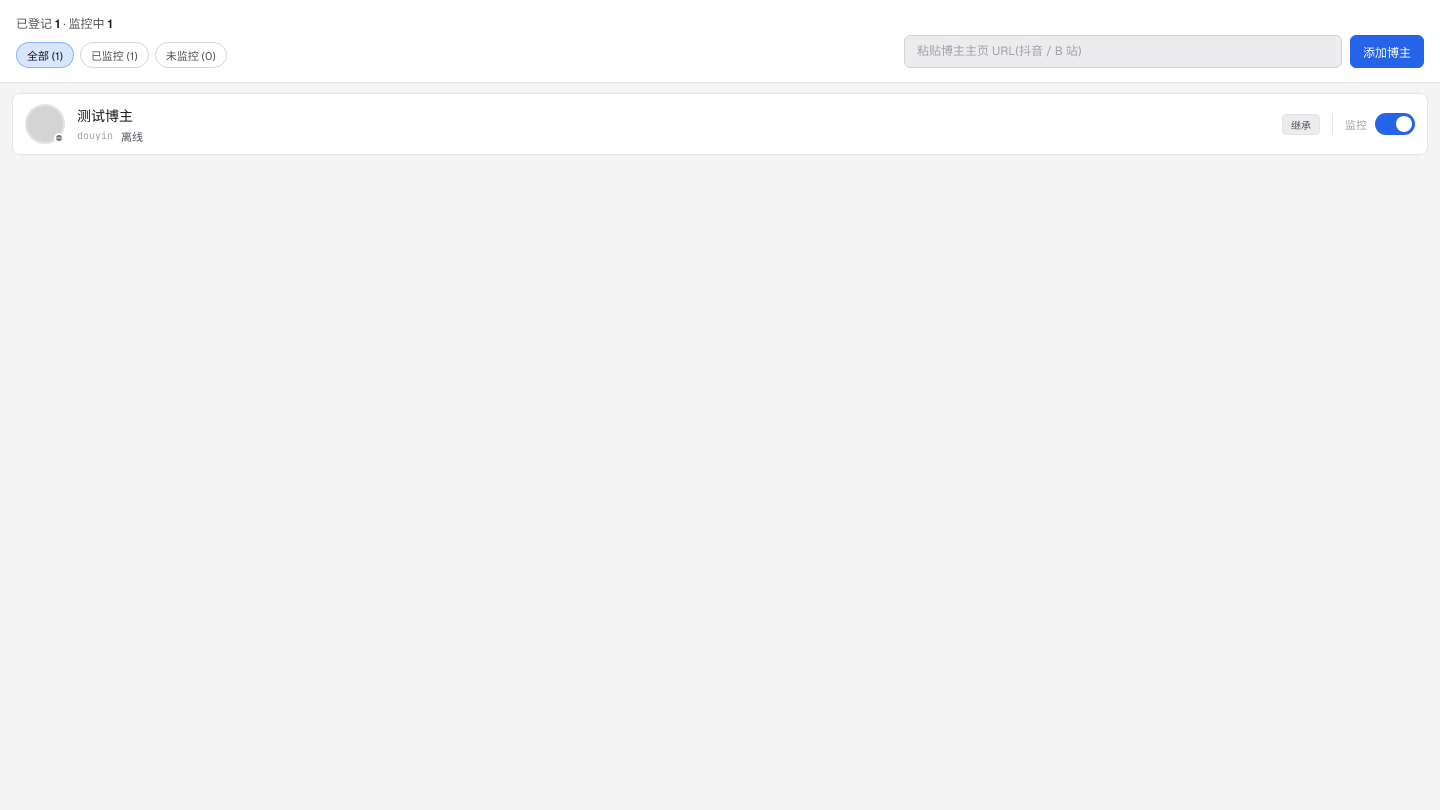
Scenario: ManagePage remove creator › shows synced profile in drawer
Click the text "测试博主" at {"x": 105, "y": 116}, box top-left (77, 108), bottom-right (133, 124)
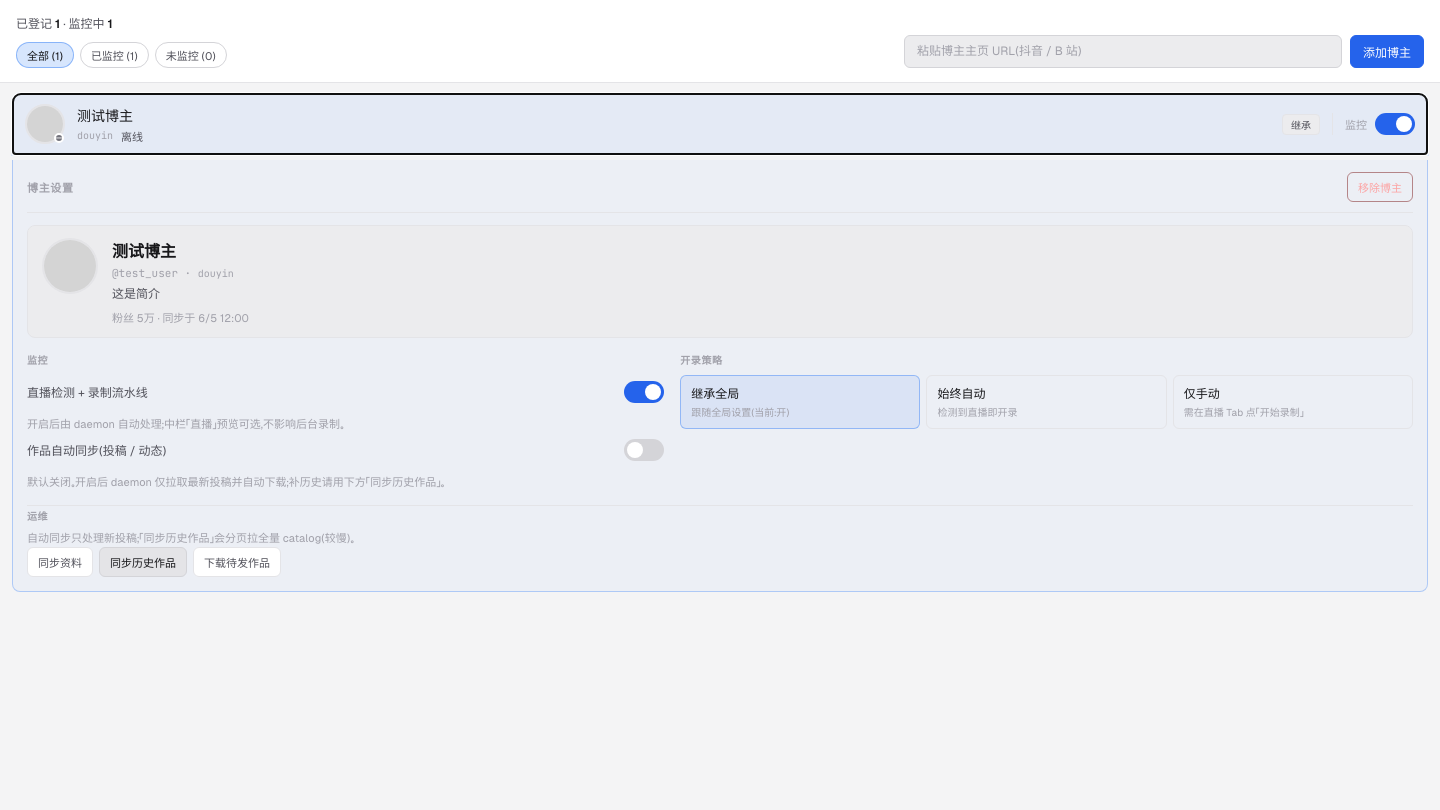
Expected: the element named "博主资料" is shown, top-left (27, 225), bottom-right (1413, 338)
Expected: the text "这是简介" is shown, top-left (112, 287), bottom-right (160, 301)
Expected: the text "粉丝 5万" is shown, top-left (112, 312), bottom-right (155, 324)
